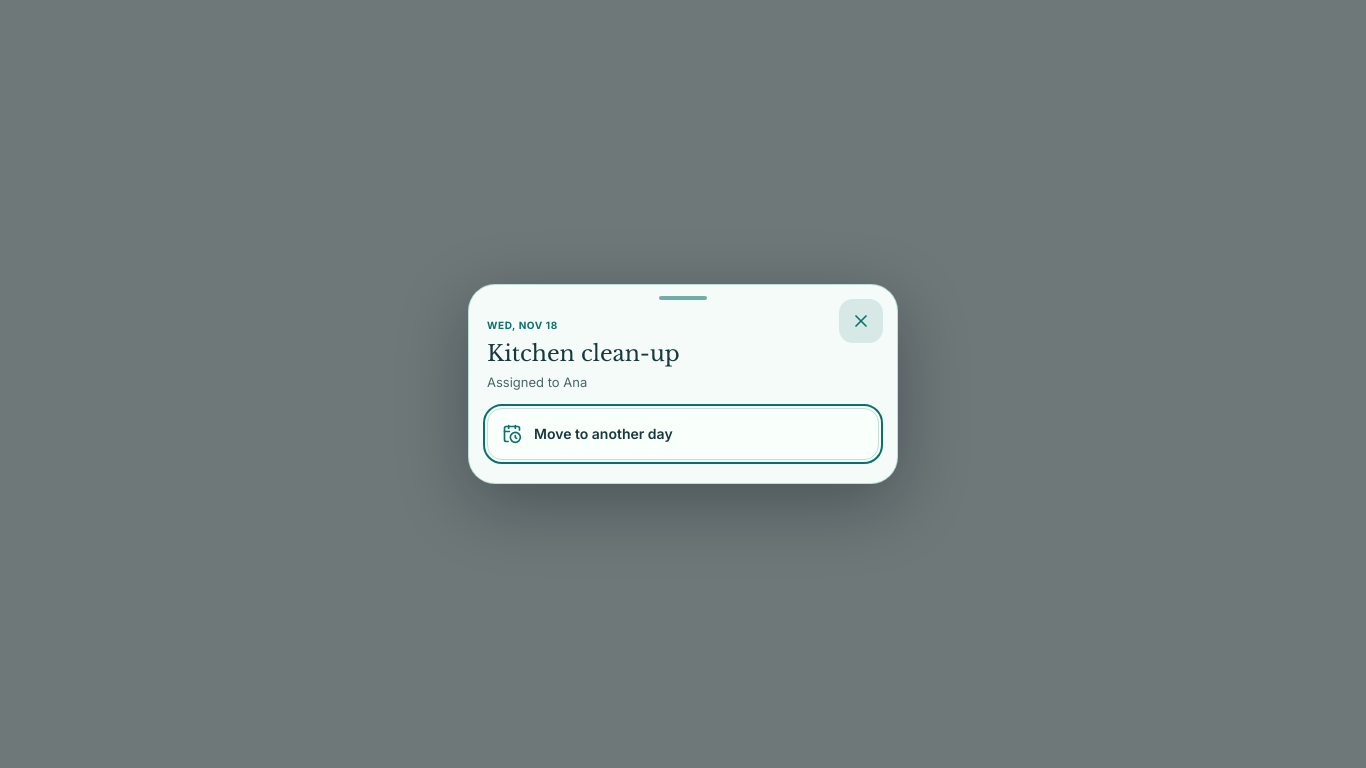
Test case: OccurrenceActionSheet › limits a move to the allowed window and keeps the time unless it is changed
Later steps or results of the test are not shown.
Click the button "Move to another day" at (603, 434), box x1=487 y1=408 x2=879 y2=460
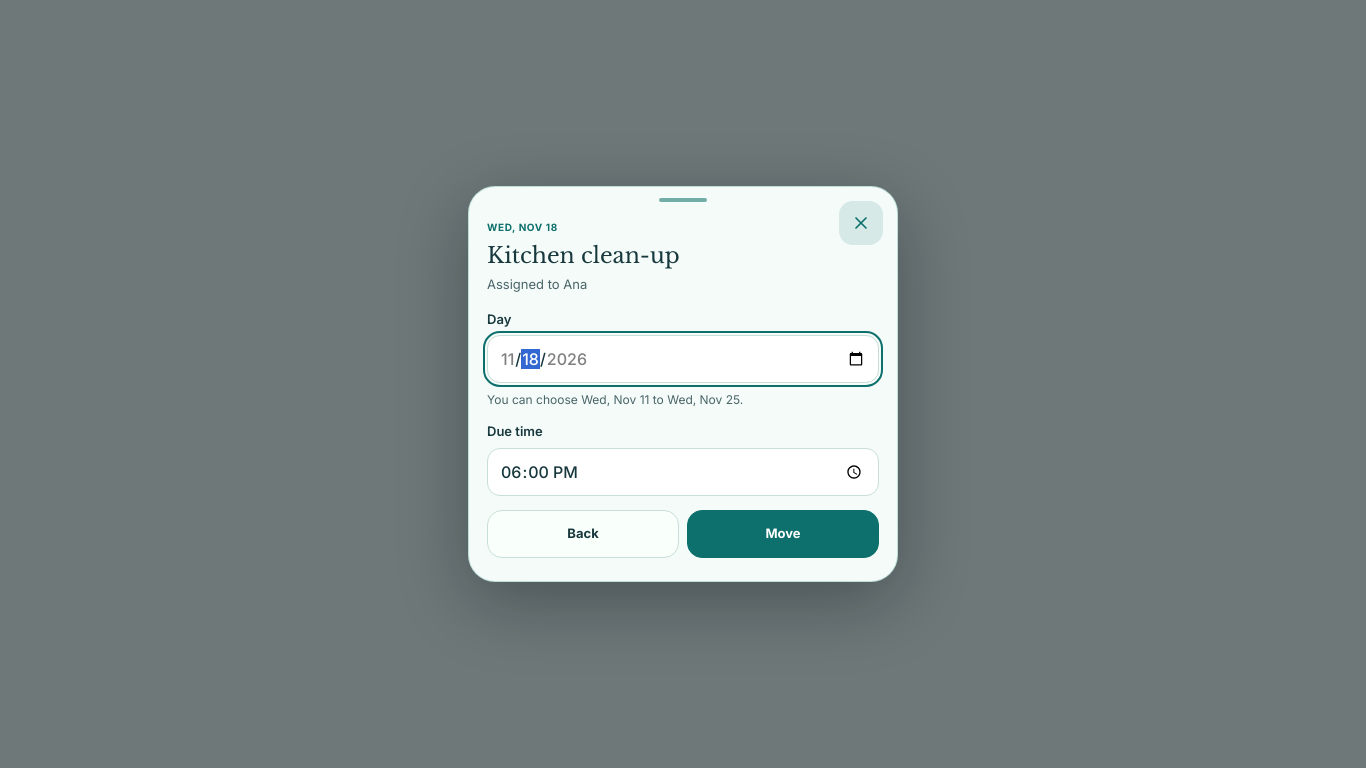
Expected: the date field labelled "Day" holds "2026-11-18"
Expected: the text "You can choose Wed, Nov 11 to Wed, Nov 25." is shown, x1=487 y1=392 x2=743 y2=407
Type "2026-11-26" into the date field labelled "Day" at (683, 359), box x1=487 y1=335 x2=879 y2=383
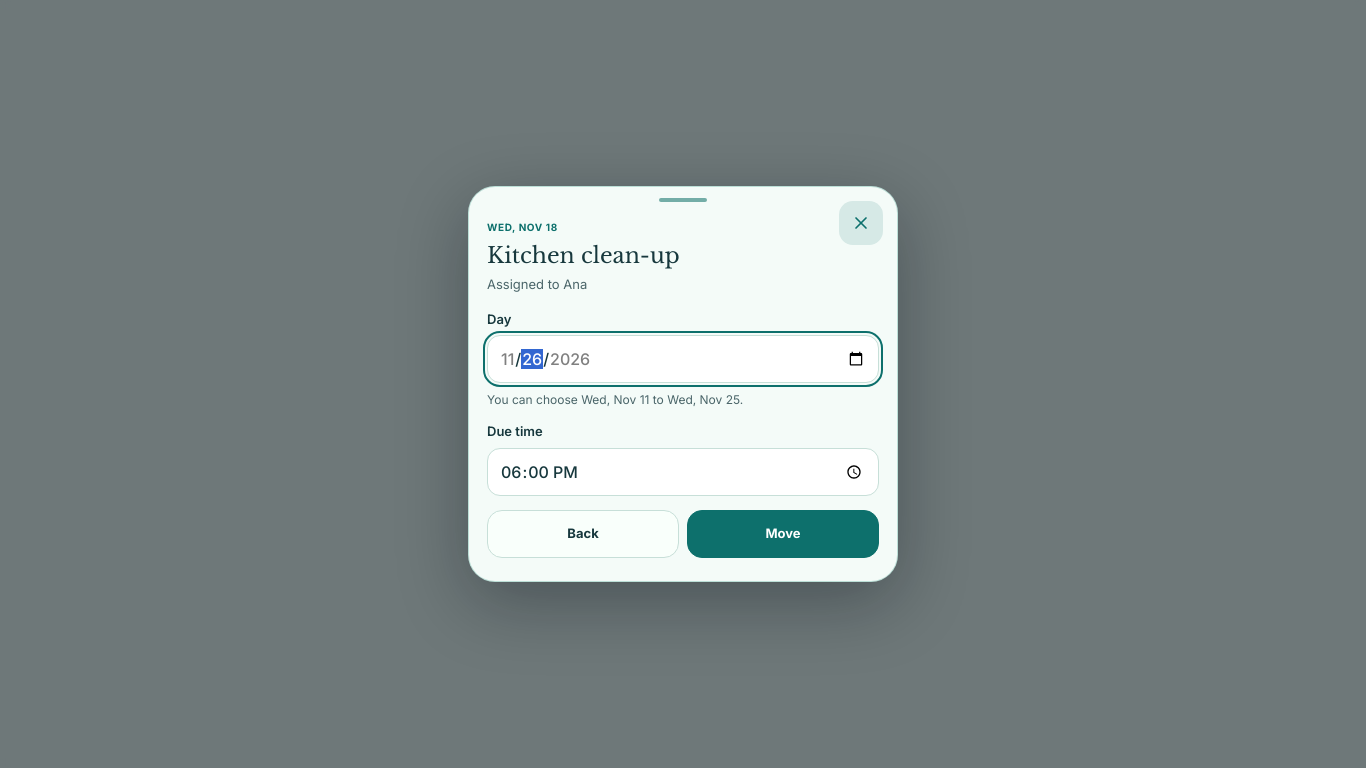
Click the button "Move" at (783, 534), box x1=687 y1=510 x2=879 y2=558
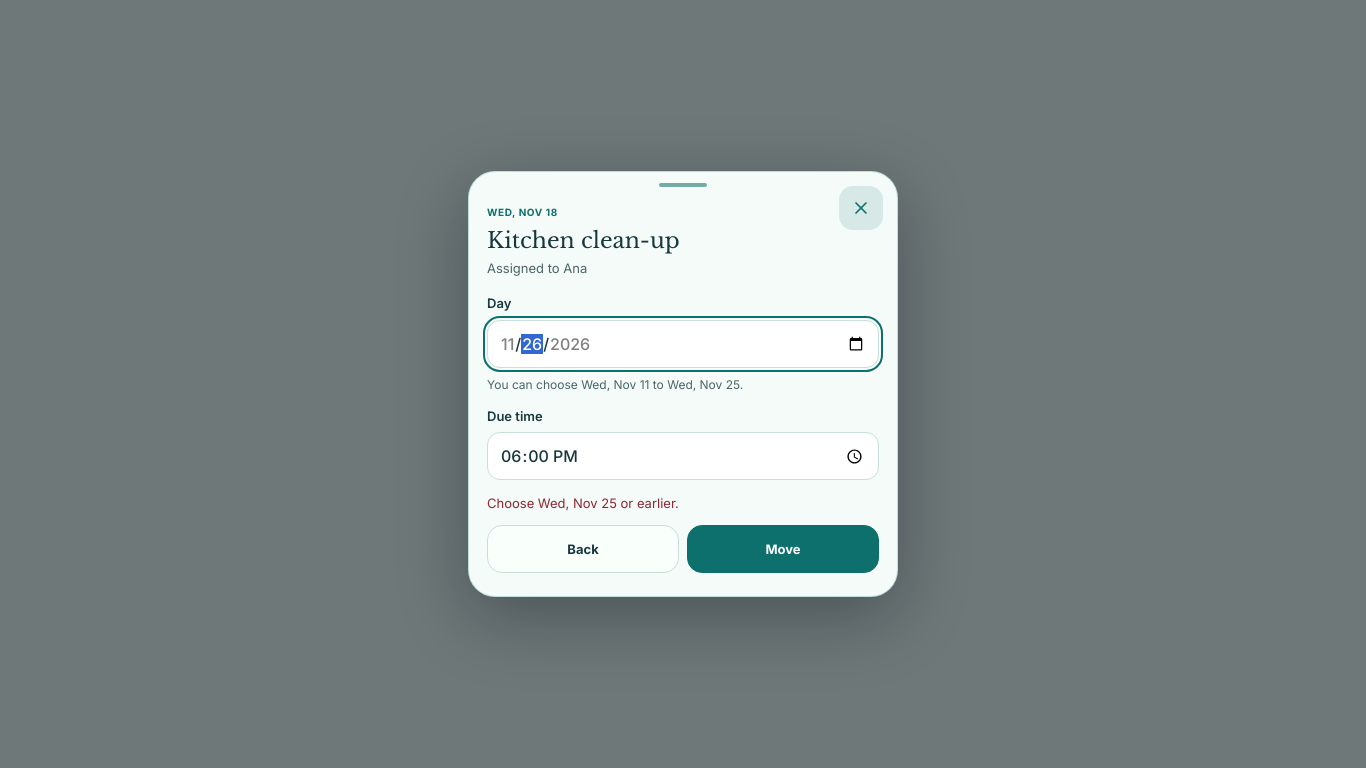
Expected: the message reads "Choose Wed, Nov 25 or earlier.", x1=487 y1=496 x2=679 y2=512
